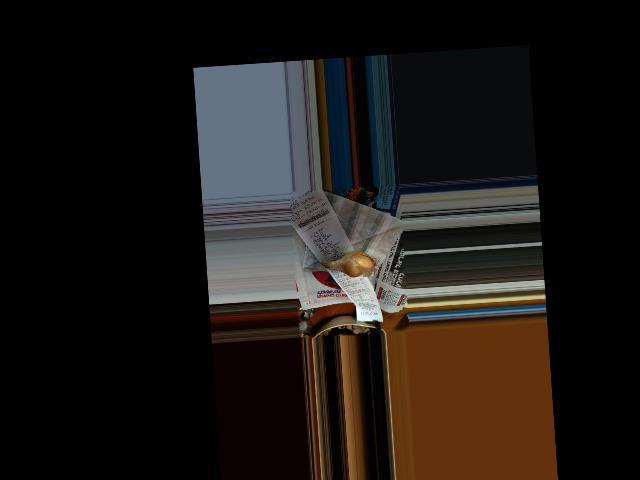onion: (327, 249, 376, 278)
